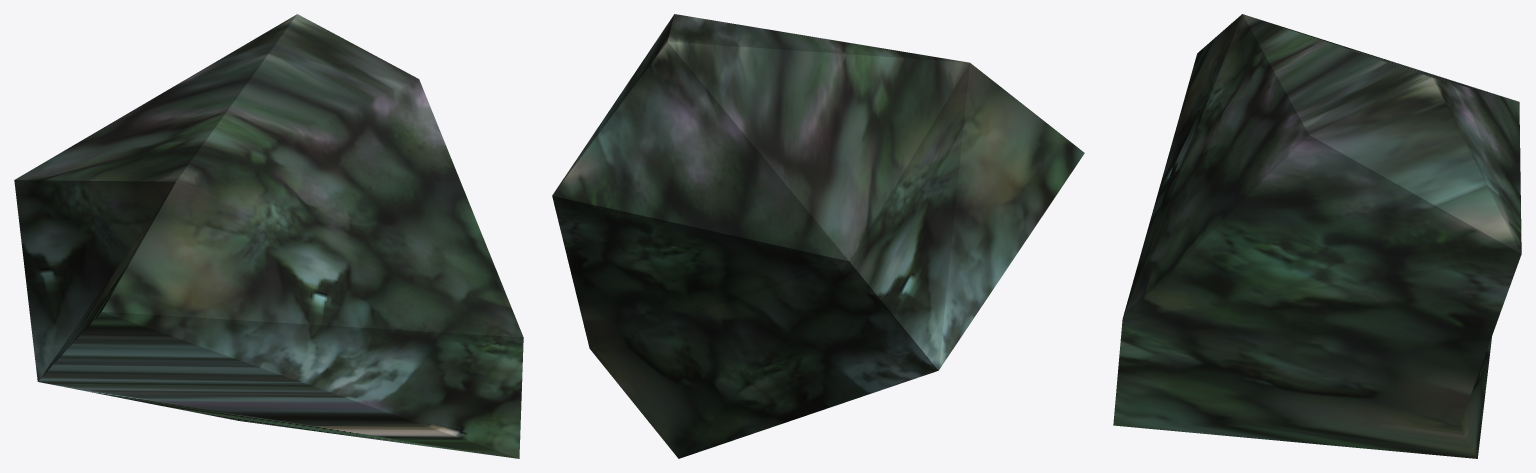
File: TheOctagon_Floor_0_Rock_3.gltf
3 renders of one model, left to right at view 1: azimuth 30°, elevation 25°; view 2: azimuth 150°, elevation 25°; view 3: azimuth 270°, elevation 25°, orthographic. The views are drawn at different scales.
Visible parts, largest first — view 1: TheOctagon_Floor_0_Rock_3; view 2: TheOctagon_Floor_0_Rock_3; view 3: TheOctagon_Floor_0_Rock_3.
Part boxes in pixels (left/top/right/bottom): TheOctagon_Floor_0_Rock_3: left=14, top=14, right=523, bottom=458; TheOctagon_Floor_0_Rock_3: left=552, top=14, right=1084, bottom=458; TheOctagon_Floor_0_Rock_3: left=1113, top=14, right=1521, bottom=458.
Size of the model in its own units: 2.46 by 2.48 by 2.3.
Materials: 1 (1 with a texture image).
